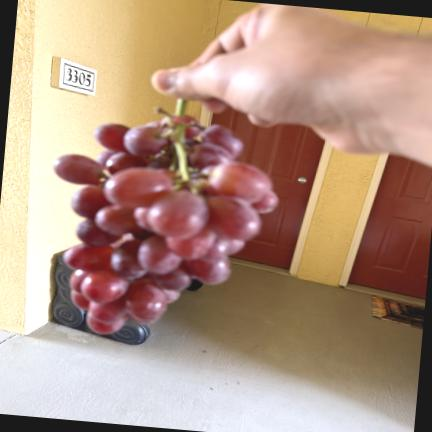grape_cluster: (53, 99, 277, 335)
